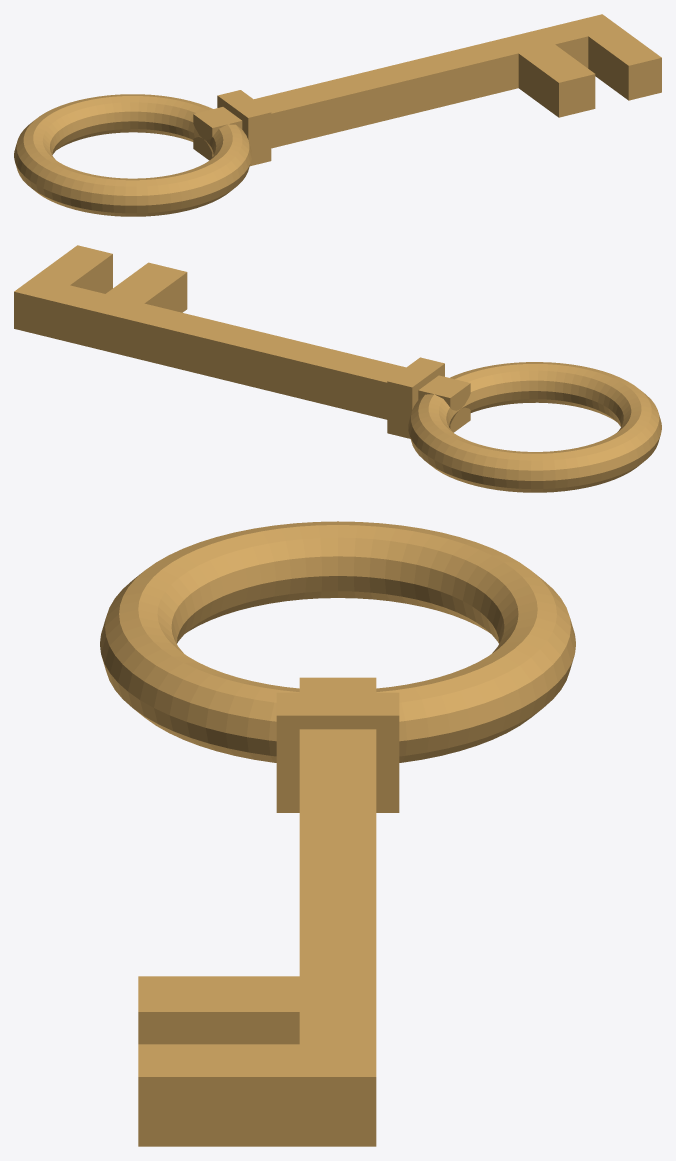
Rendered from brass-key.glb.
The picture shows the model from 3 angles, top to bottom: view 1: azimuth 30°, elevation 25°; view 2: azimuth 150°, elevation 25°; view 3: azimuth 270°, elevation 25°; orthographic projection. The views are drawn at different scales.
Parts seen in each view (by area): view 1: Brass evidence key; view 2: Brass evidence key; view 3: Brass evidence key.
Part boxes in pixels (x1,y1,x2,y2): Brass evidence key: (14, 14, 661, 216); Brass evidence key: (14, 245, 661, 492); Brass evidence key: (100, 521, 575, 1146).
Bounding box in the file's own units: 0.175 × 0.014 × 0.062.
